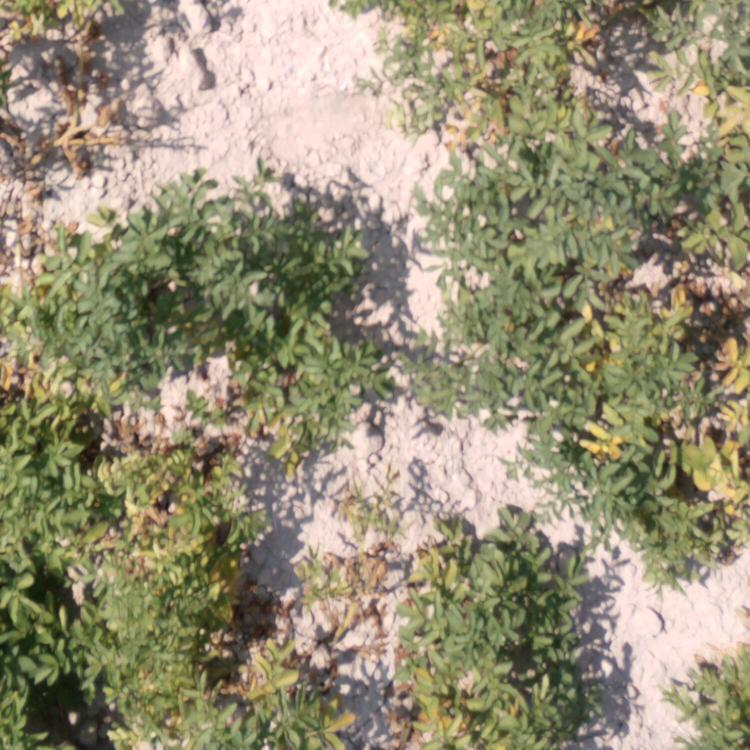healthy: (73, 173, 324, 325), (419, 172, 558, 388), (1, 506, 85, 745)
stressed: (98, 514, 343, 750), (374, 494, 591, 750), (590, 281, 750, 554), (359, 1, 618, 135), (618, 3, 747, 266), (1, 325, 188, 494), (210, 347, 360, 480), (1, 9, 102, 145), (668, 654, 750, 746)
